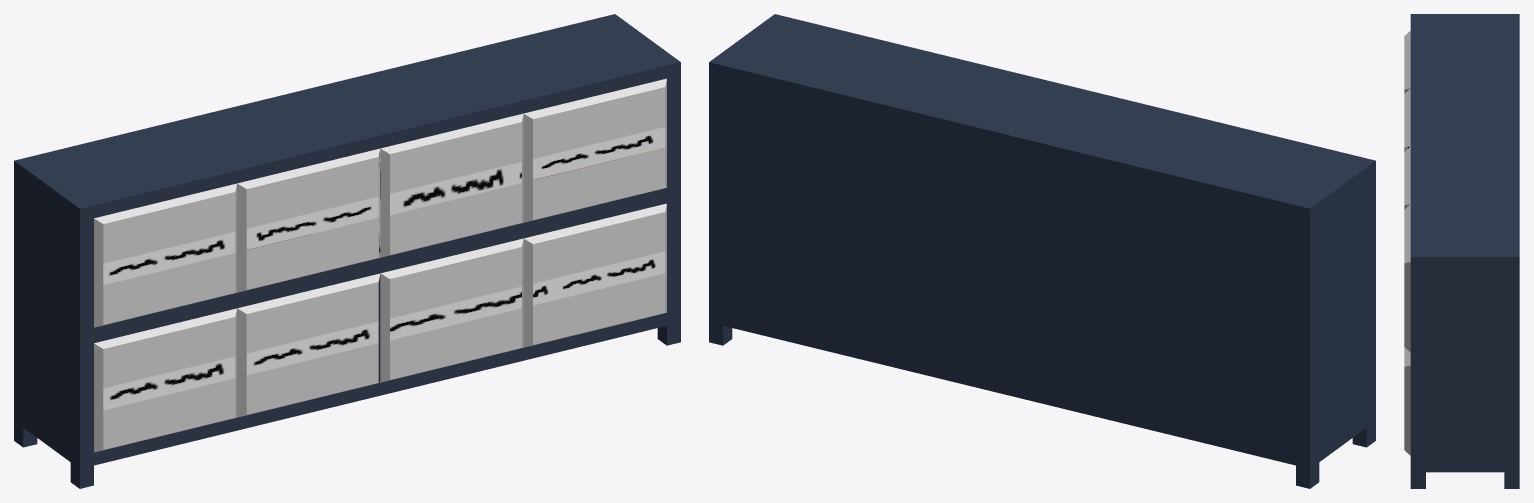
The model's file is Storage.glb.
3 views of the same model, side by side, from view 1: azimuth 30°, elevation 25°; view 2: azimuth 150°, elevation 25°; view 3: azimuth 270°, elevation 25° (orthographic). The views are drawn at different scales.
Visible parts, largest first — view 1: Storage; view 2: Storage; view 3: Storage.
Boxes of the visible parts, x1=… form: Storage: x1=14, y1=14, x2=680, y2=488; Storage: x1=709, y1=14, x2=1375, y2=488; Storage: x1=1404, y1=14, x2=1519, y2=488.
Bounding box in the file's own units: 6.51 × 2.9 × 1.31.
1 material, 1 textured.
